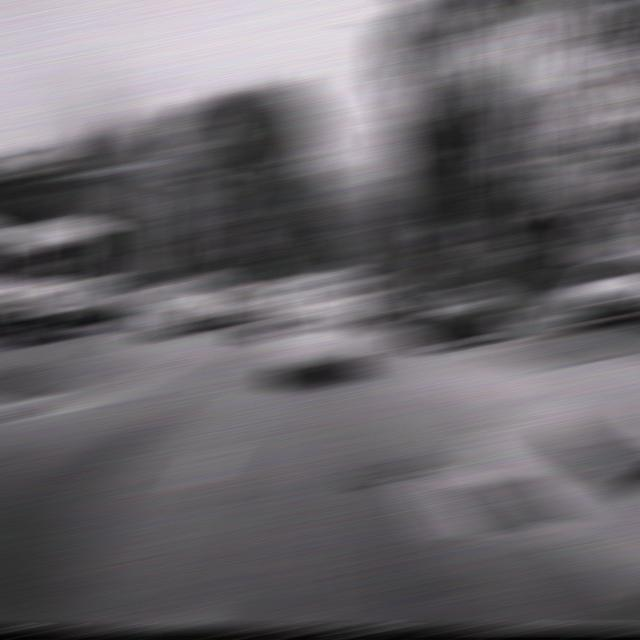stop: (468, 219, 500, 248)
